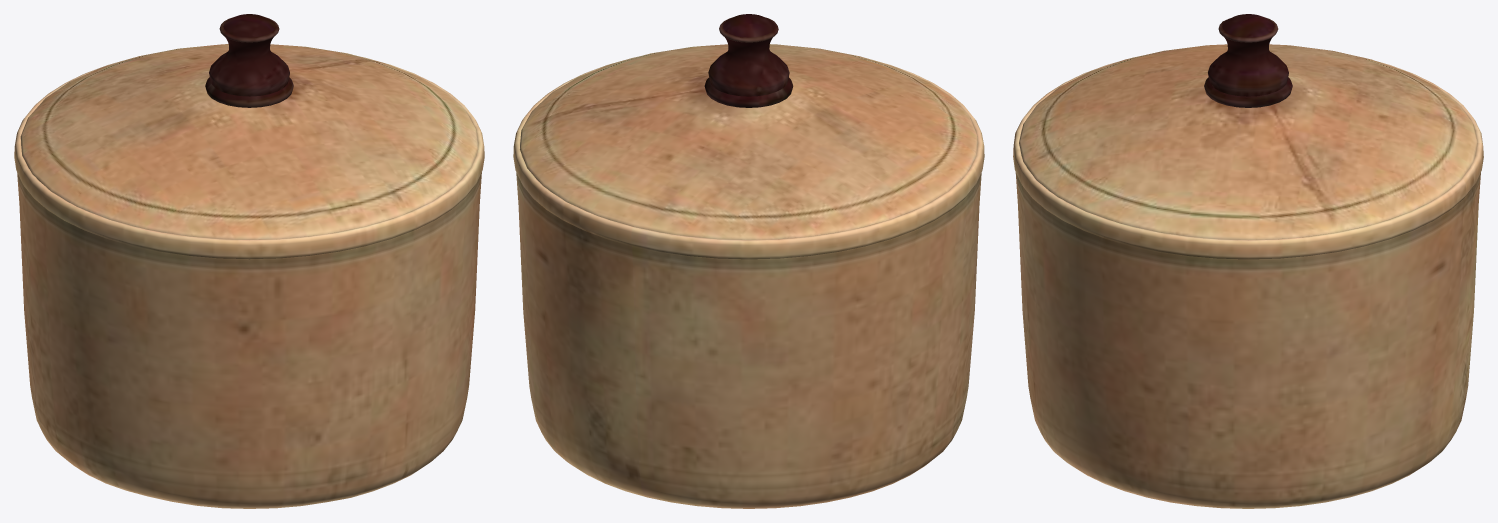
3 views of the same model, side by side, from view 1: azimuth 30°, elevation 25°; view 2: azimuth 150°, elevation 25°; view 3: azimuth 270°, elevation 25° (orthographic).
Parts seen in each view (by area): view 1: brass_pot_01; view 2: brass_pot_01; view 3: brass_pot_01.
Boxes of the visible parts, left/top/right/bottom form: brass_pot_01: left=14, top=14, right=484, bottom=508; brass_pot_01: left=513, top=14, right=984, bottom=508; brass_pot_01: left=1013, top=14, right=1483, bottom=508.
Bounding box in the file's own units: 0.3019 × 0.2909 × 0.3017.
1 material, 1 textured.
